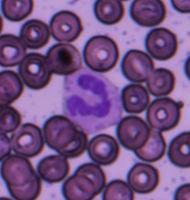N: (62, 68, 122, 133)
